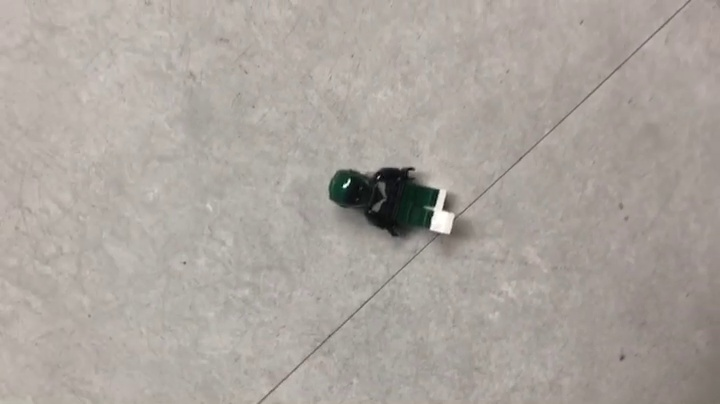people: (328, 166, 456, 241)
